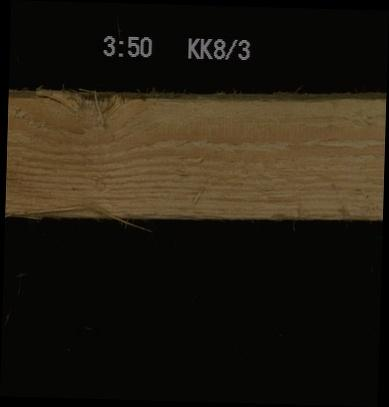edge_knot: (38, 89, 165, 124)
